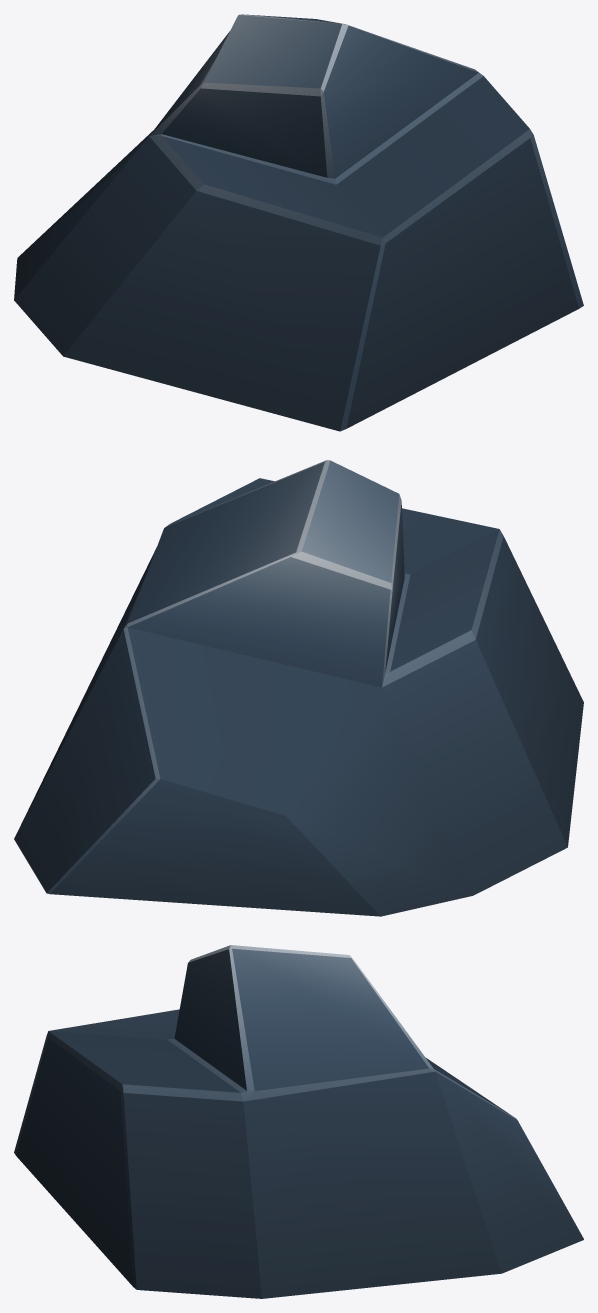
Rendered from Rock_6.fbx.
The picture shows the model from 3 angles, top to bottom: view 1: azimuth 30°, elevation 25°; view 2: azimuth 150°, elevation 25°; view 3: azimuth 270°, elevation 25°; orthographic projection. The views are drawn at different scales.
Visible parts, largest first — view 1: Rock_6; view 2: Rock_6; view 3: Rock_6.
Part boxes in pixels (box(x1,y1,x2,y2)): Rock_6: box(14, 14, 583, 431); Rock_6: box(14, 460, 583, 916); Rock_6: box(14, 945, 583, 1298).
Size of the model in its own units: 338 by 202 by 399.
